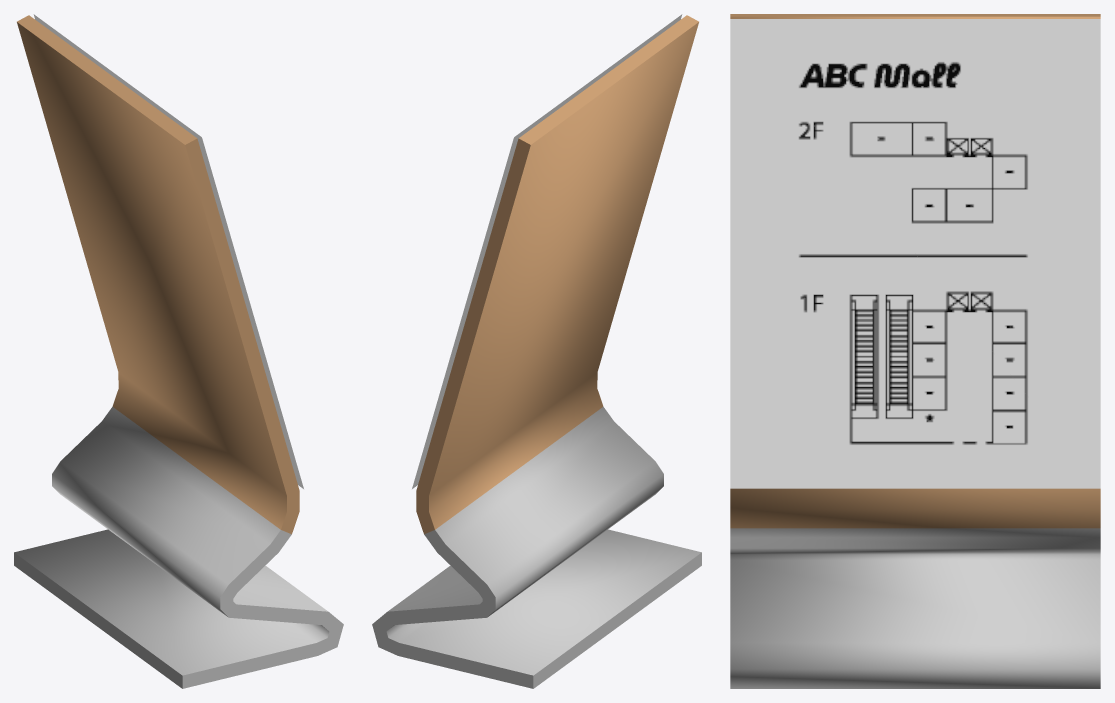
File: floor directory.fbx
The picture shows the model from 3 angles, left to right: view 1: azimuth 30°, elevation 25°; view 2: azimuth 150°, elevation 25°; view 3: azimuth 270°, elevation 25°; orthographic projection. The views are drawn at different scales.
Visible parts, largest first — view 1: directory, map; view 2: directory, map; view 3: map, directory.
Boxes of the visible parts, <box> form: directory: <box>14,15,343,688</box>; map: <box>33,14,303,488</box>; directory: <box>372,15,701,688</box>; map: <box>412,14,682,488</box>; map: <box>730,19,1100,488</box>; directory: <box>730,14,1100,688</box>.
Size of the model in its own units: 63.73 by 206 by 115.
